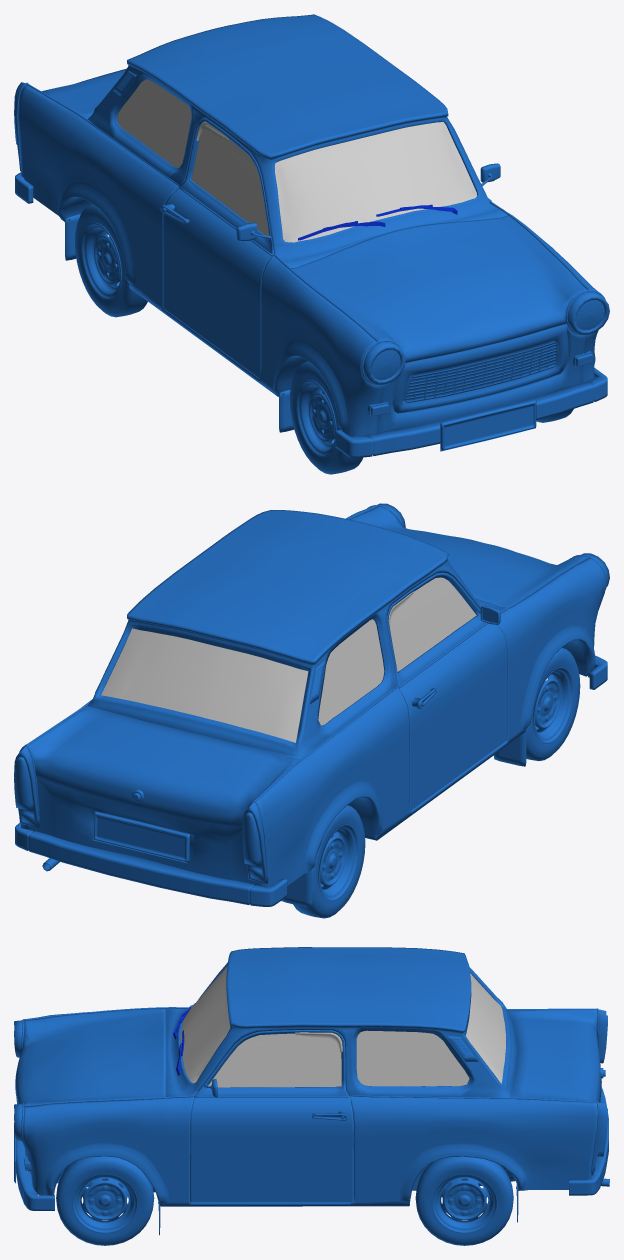
Rendered from obj_Trabant_tiny.obj.
3 renders of one model, top to bottom at view 1: azimuth 30°, elevation 25°; view 2: azimuth 150°, elevation 25°; view 3: azimuth 270°, elevation 25°, orthographic. The views are drawn at different scales.
Visible parts, largest first — view 1: obj_Trabant_tiny; view 2: obj_Trabant_tiny; view 3: obj_Trabant_tiny.
Boxes of the visible parts, x1,y1,x2,y2 form: obj_Trabant_tiny: [14, 14, 609, 474]; obj_Trabant_tiny: [14, 503, 609, 918]; obj_Trabant_tiny: [14, 947, 609, 1245].
Bounding box in the file's own units: 0.072 × 0.0688 × 0.1692.
